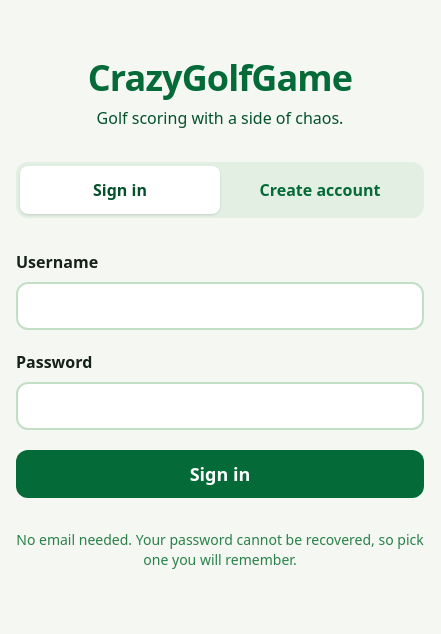
Test: SignInScreen › surfaces our own validation message verbatim
The image size is (441, 634).
Click the tab "Create account" at (320, 190), box [220,166,420,214]
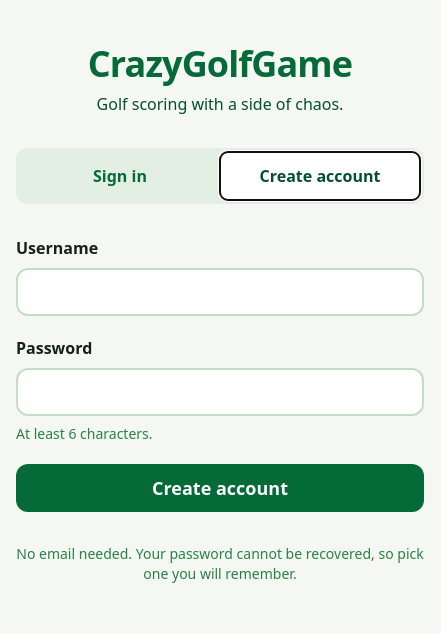
Type "jf" into the field labelled "Username" at (220, 292), box [16,268,424,316]
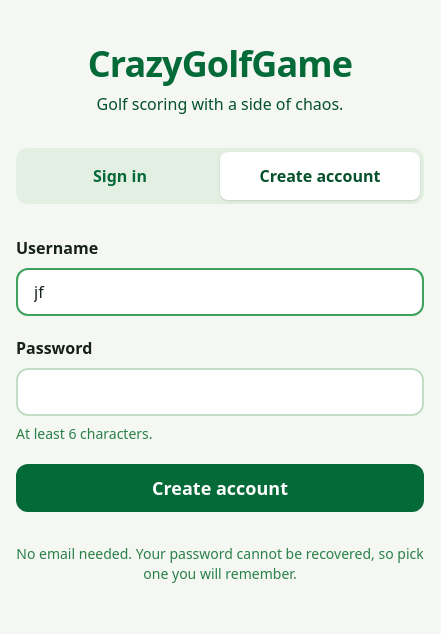
Type "secret123" into the password field labelled "Password" at (220, 392), box [16,368,424,416]
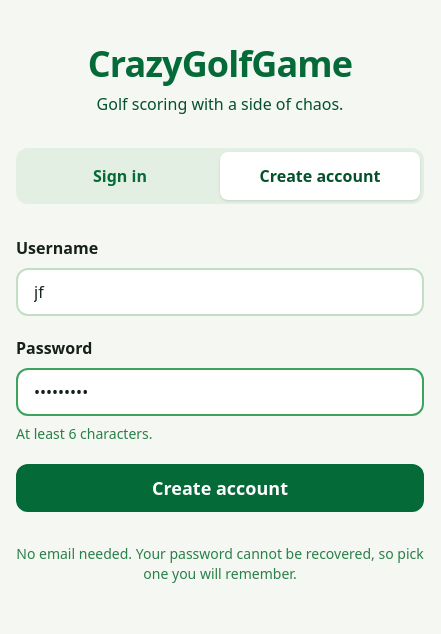
Click the button "Create account" at (220, 488), box [16,464,424,512]
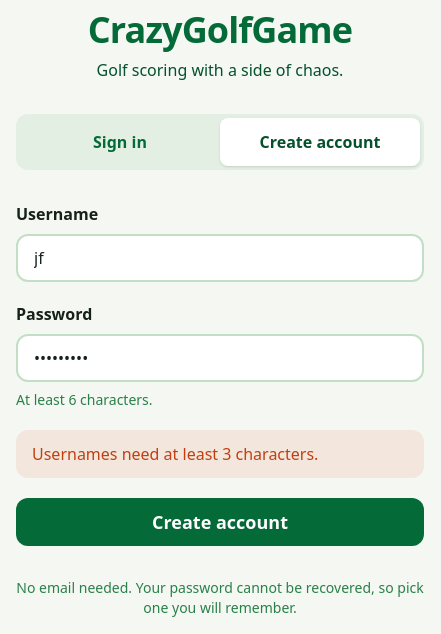
Expected: the message reads "Usernames need at least 3 characters.", [32,443,318,465]
